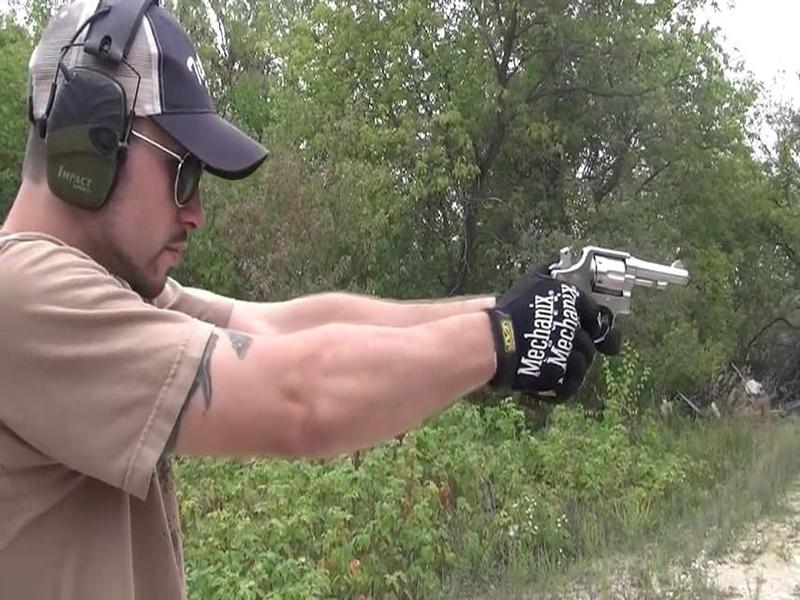Revolver: (506, 224, 673, 361)
